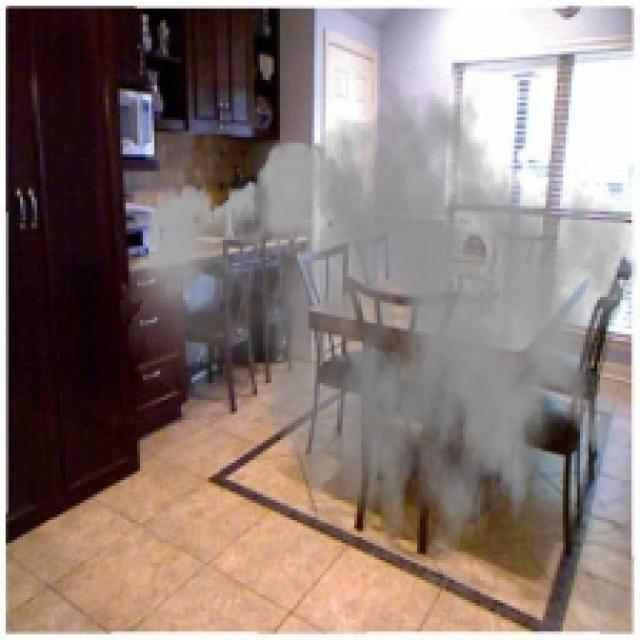smoke: (120, 74, 637, 600)
